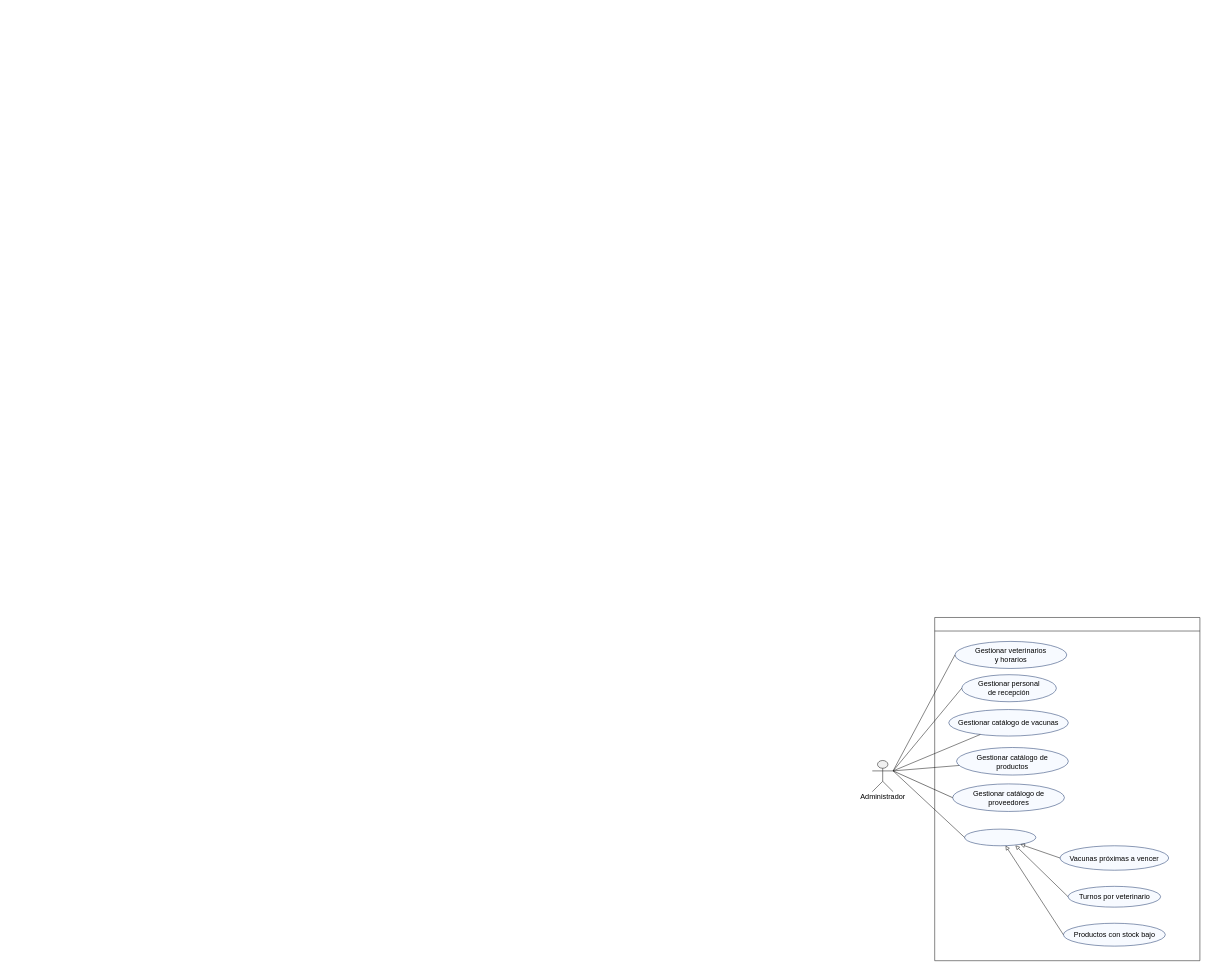
Some shapes in this 1209 by 970 pixel diagram are drawn without their labels. Here are the shapes that lost their labels. From the top down, the box of each, then its label:
(934, 617, 1200, 961): Sistema Clínica Veterinaria Patitas
(964, 829, 1036, 846): Emitir reportes
